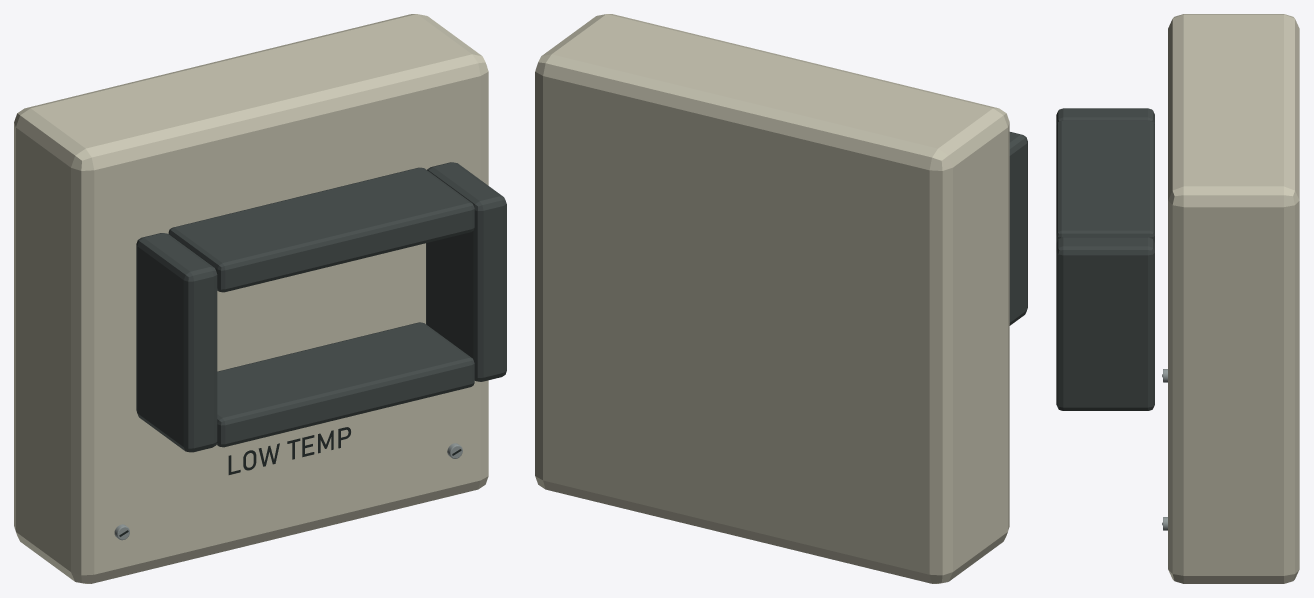
Rendered from COLD_Housing.fbx.
The picture shows the model from 3 angles, left to right: view 1: azimuth 30°, elevation 25°; view 2: azimuth 150°, elevation 25°; view 3: azimuth 270°, elevation 25°; orthographic projection. The views are drawn at different scales.
Parts seen in each view (by area): view 1: COLD_Housing_EXPORT; view 2: COLD_Housing_EXPORT; view 3: COLD_Housing_EXPORT.
Boxes of the visible parts, x1,y1,x2,y2 form: COLD_Housing_EXPORT: [14, 14, 506, 583]; COLD_Housing_EXPORT: [535, 14, 1027, 583]; COLD_Housing_EXPORT: [1056, 14, 1299, 583].
Size of the model in its own units: 0.253 by 0.253 by 0.1405.
